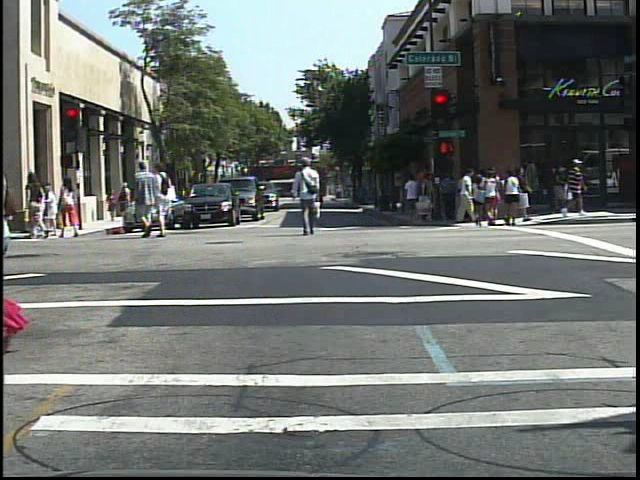person: (0, 130, 22, 348), (293, 153, 327, 241), (130, 157, 163, 242), (558, 154, 592, 218), (25, 167, 52, 244), (58, 171, 82, 240), (157, 161, 177, 239), (469, 173, 487, 231)
